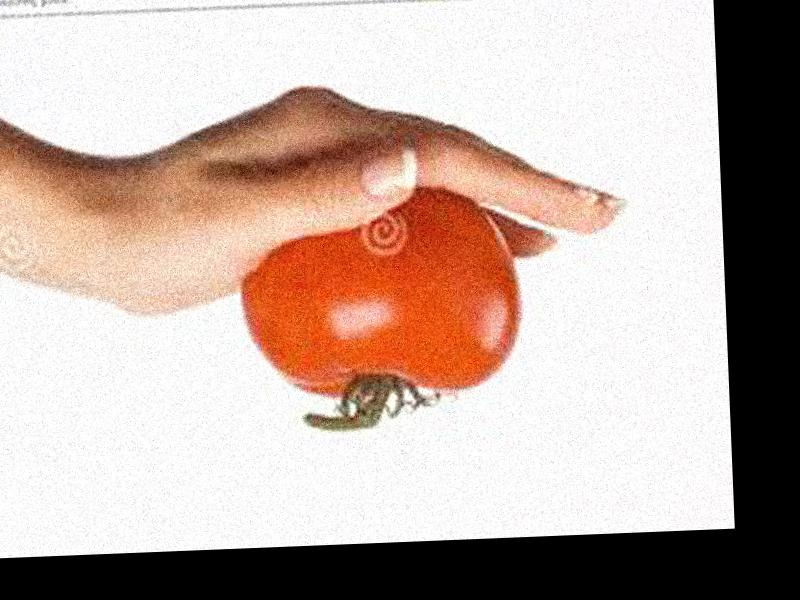Tomato: (237, 185, 523, 400)
